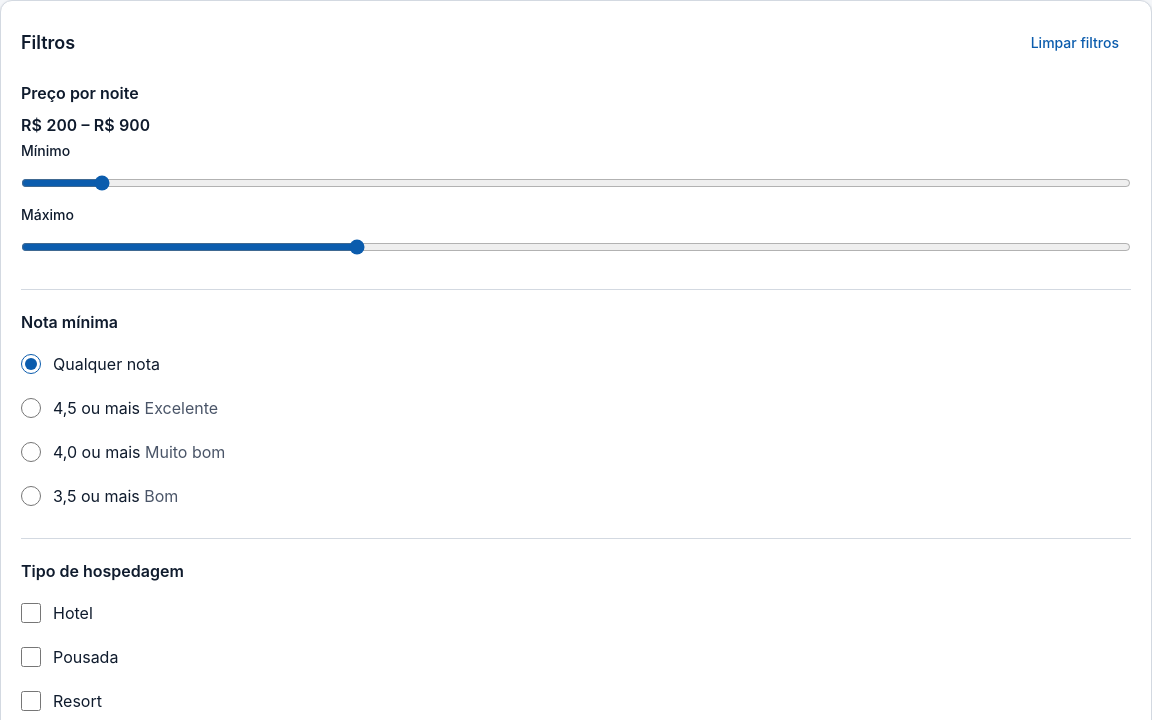
Test: FiltersPanel: sliders de preço (critério 12) › o mínimo nunca ultrapassa o máximo
Set the slider labelled "Mínimo" to "2000" at (758, 183), box [21,161,1131,205]
Wait 500 ms
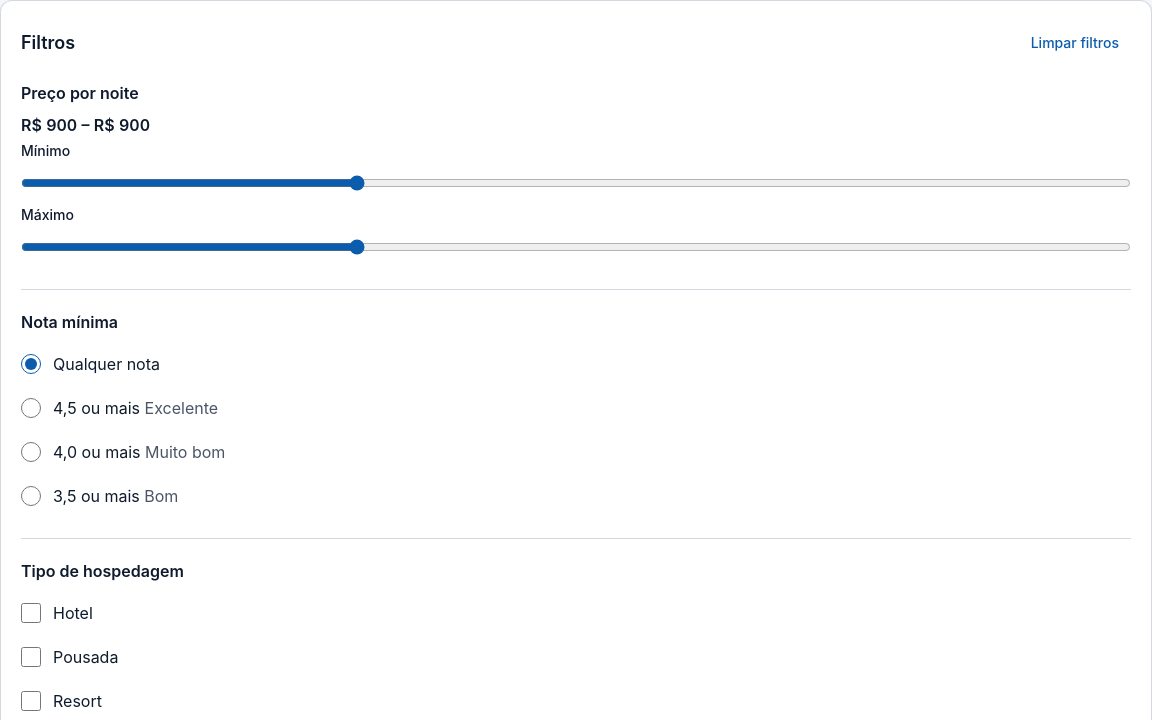
Expected: the slider labelled "Máximo" holds "900", [21,225,1131,269]
Now the slider labelled "Mínimo" holds "900", box [21,161,1131,205]
